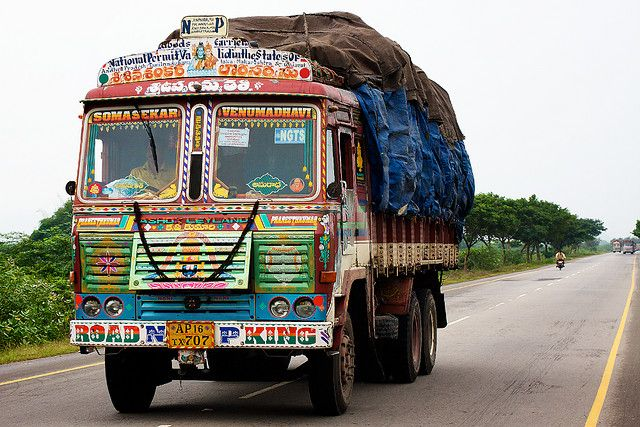bike: (556, 251, 566, 271)
truck: (71, 32, 449, 417), (623, 240, 635, 255), (611, 239, 621, 253)
